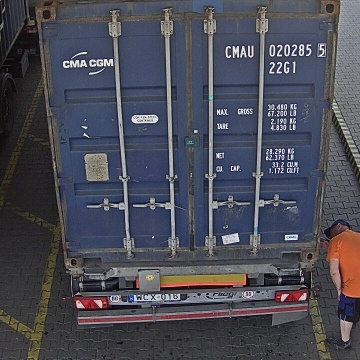serial_id: (225, 43, 326, 57)
